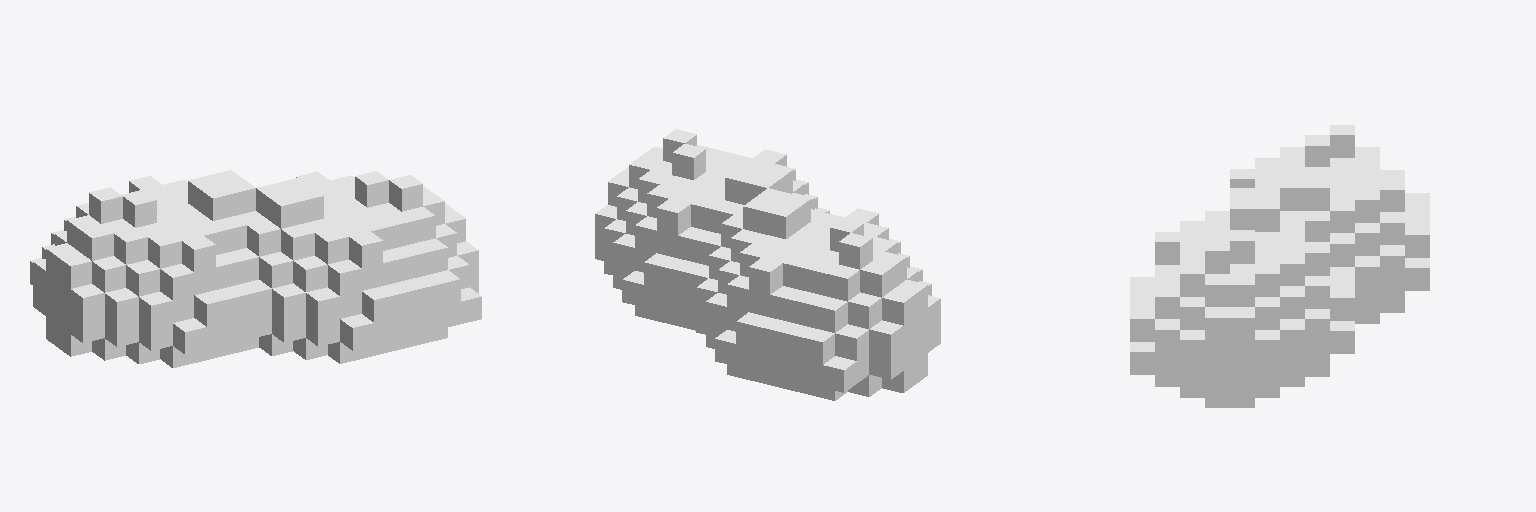
The model's file is map_Third-5.obj.
3 views of the same model, side by side, from view 1: azimuth 30°, elevation 25°; view 2: azimuth 150°, elevation 25°; view 3: azimuth 270°, elevation 25° (orthographic).
Parts seen in each view (by area): view 1: object 1; view 2: object 1; view 3: object 1.
Part boxes in pixels (x1,y1,x2,y2): object 1: (30, 170, 481, 367); object 1: (595, 129, 940, 400); object 1: (1130, 125, 1429, 407).
Bounding box in the file's own units: 1.6 × 0.6 × 1.2.